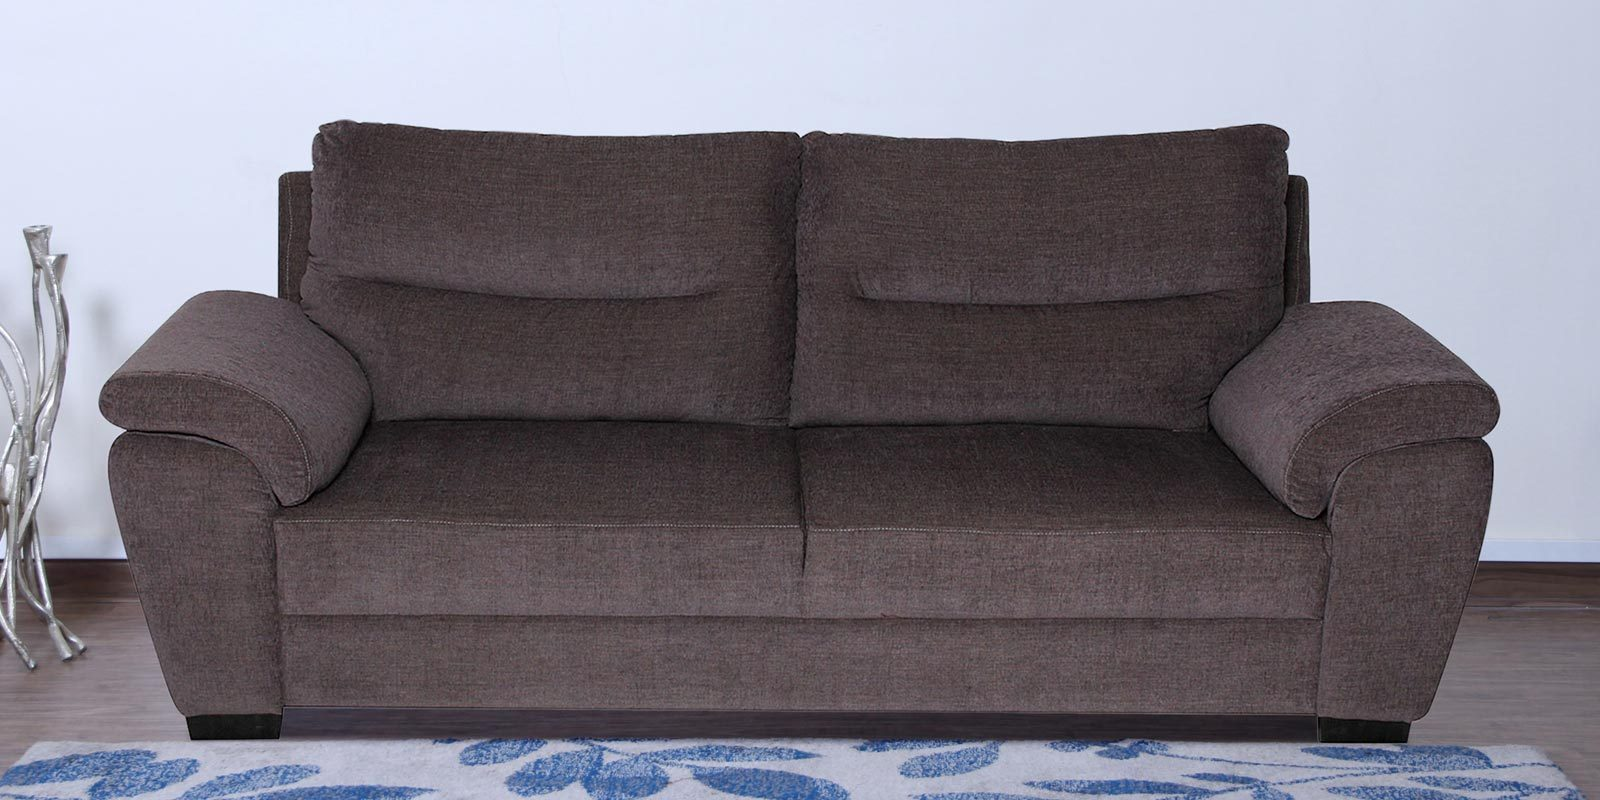Hamfir Three Seater Sofa in Brown Colour by Furniture Mind: (82, 100, 1529, 743)
